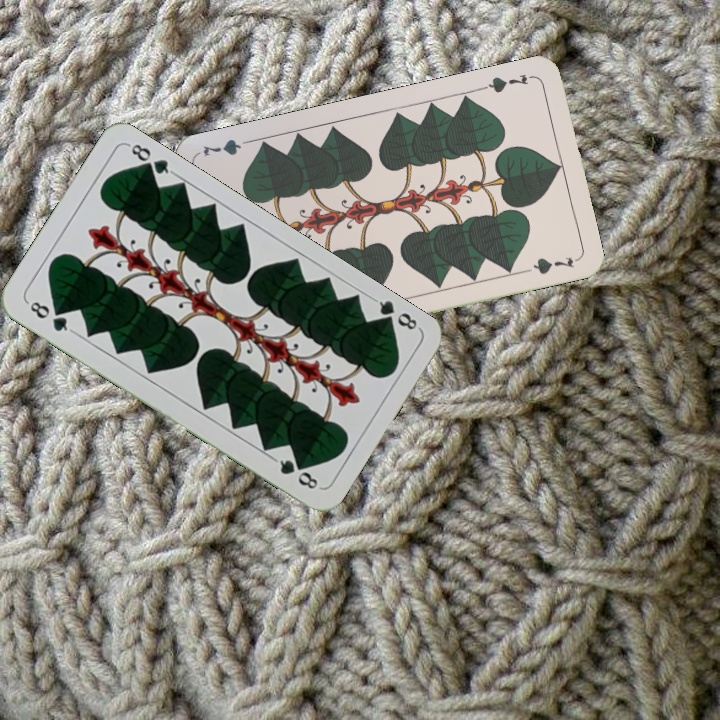G7: (478, 69, 537, 95)
G8: (369, 294, 422, 333), (23, 297, 76, 335)
